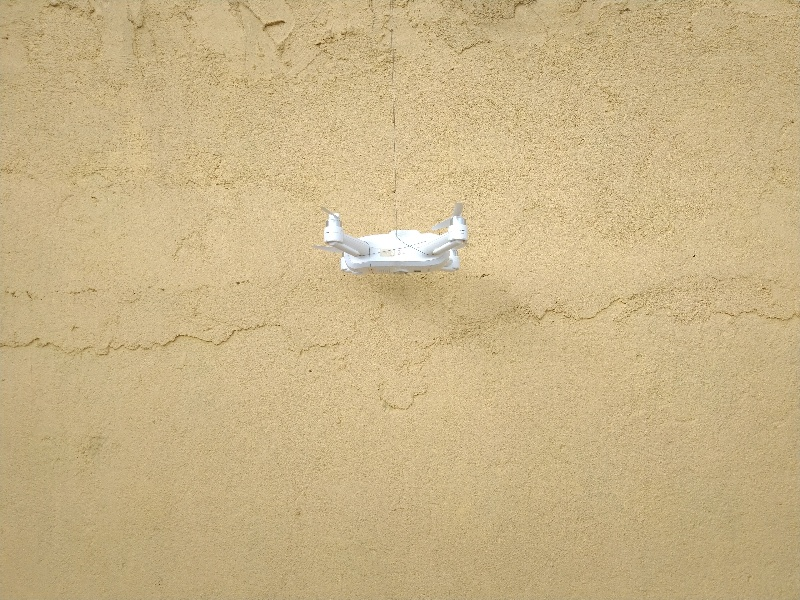drone: (305, 201, 483, 280)
